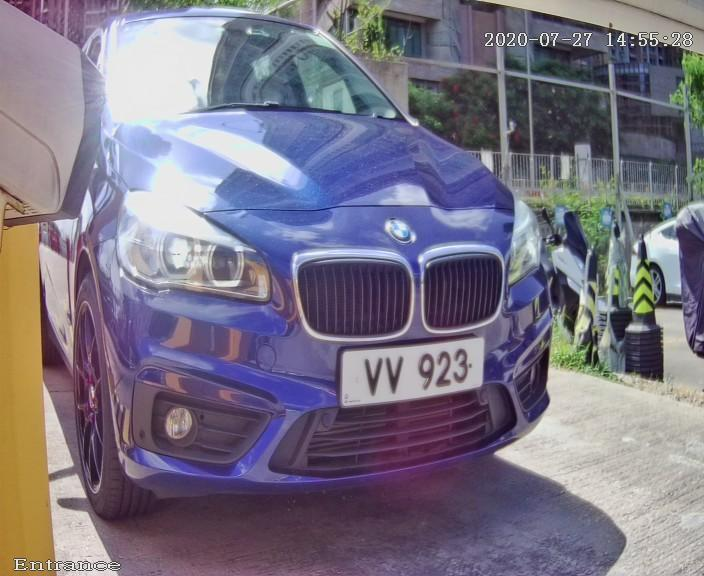privatecar: (19, 21, 601, 535)
